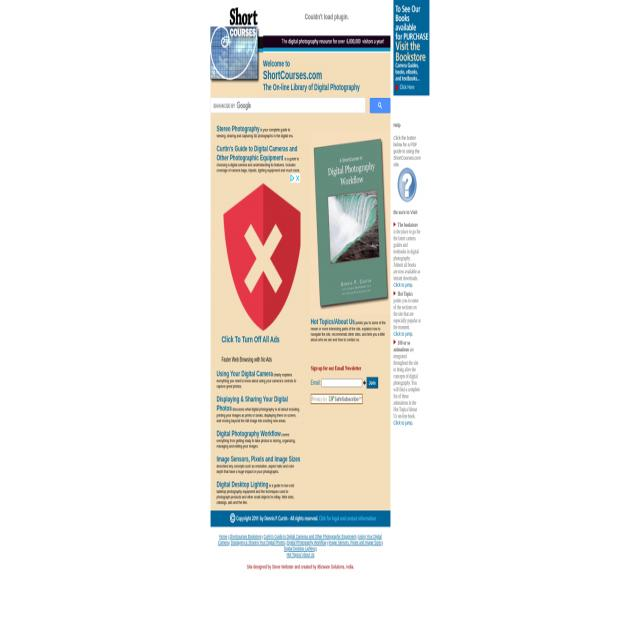button: (310, 130, 390, 316), (210, 2, 261, 82), (394, 0, 429, 96), (210, 511, 390, 528), (263, 36, 391, 52), (398, 168, 417, 202), (311, 394, 362, 404), (370, 99, 390, 112), (366, 378, 378, 390)
field: (210, 98, 366, 112), (322, 379, 362, 388)
